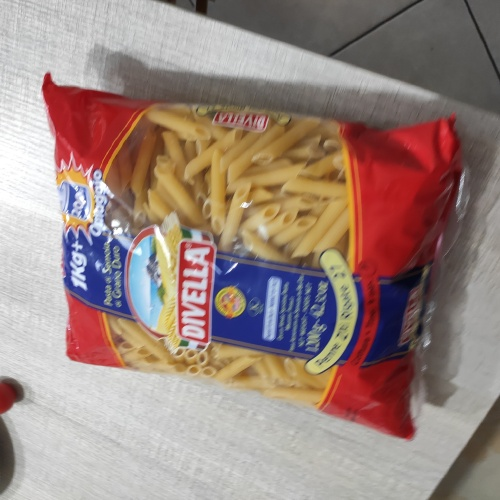pasta: (37, 85, 447, 448)
